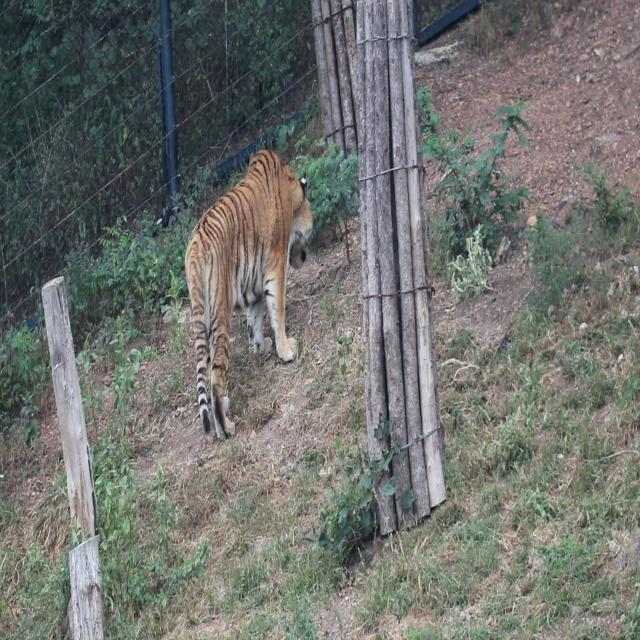Tiger: (176, 139, 339, 425)
